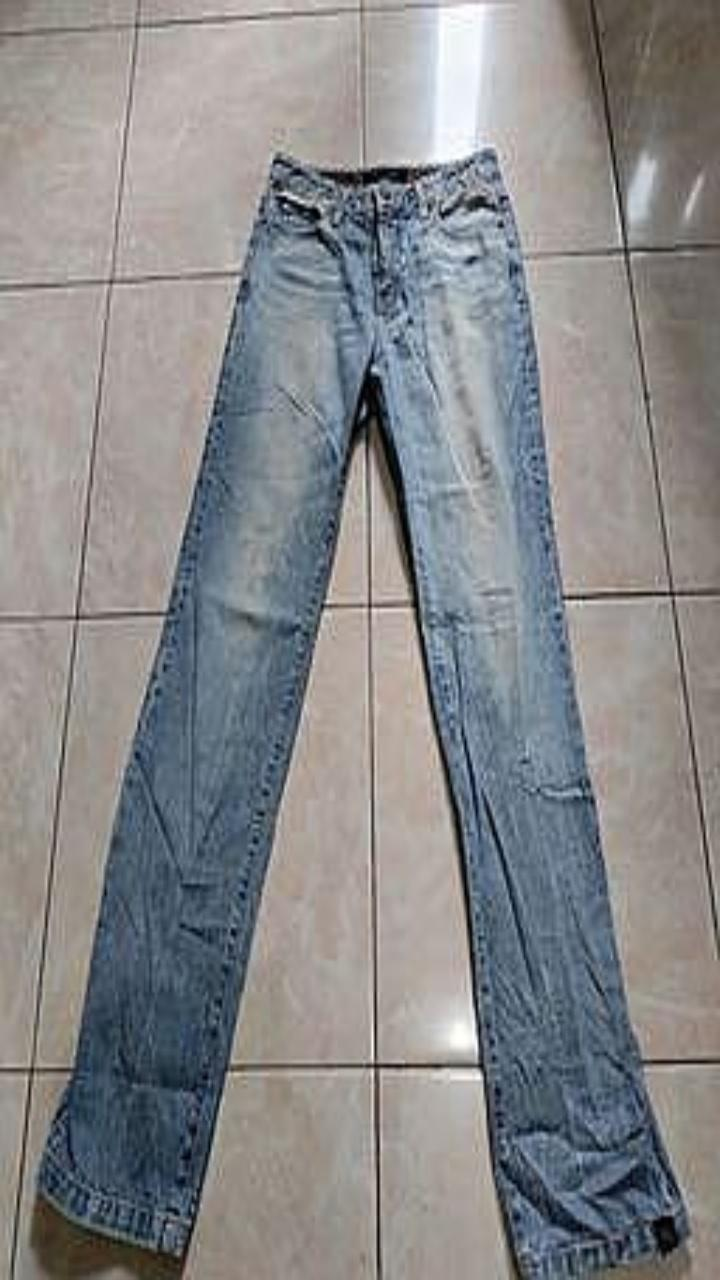Jeans: (37, 148, 688, 1279)
